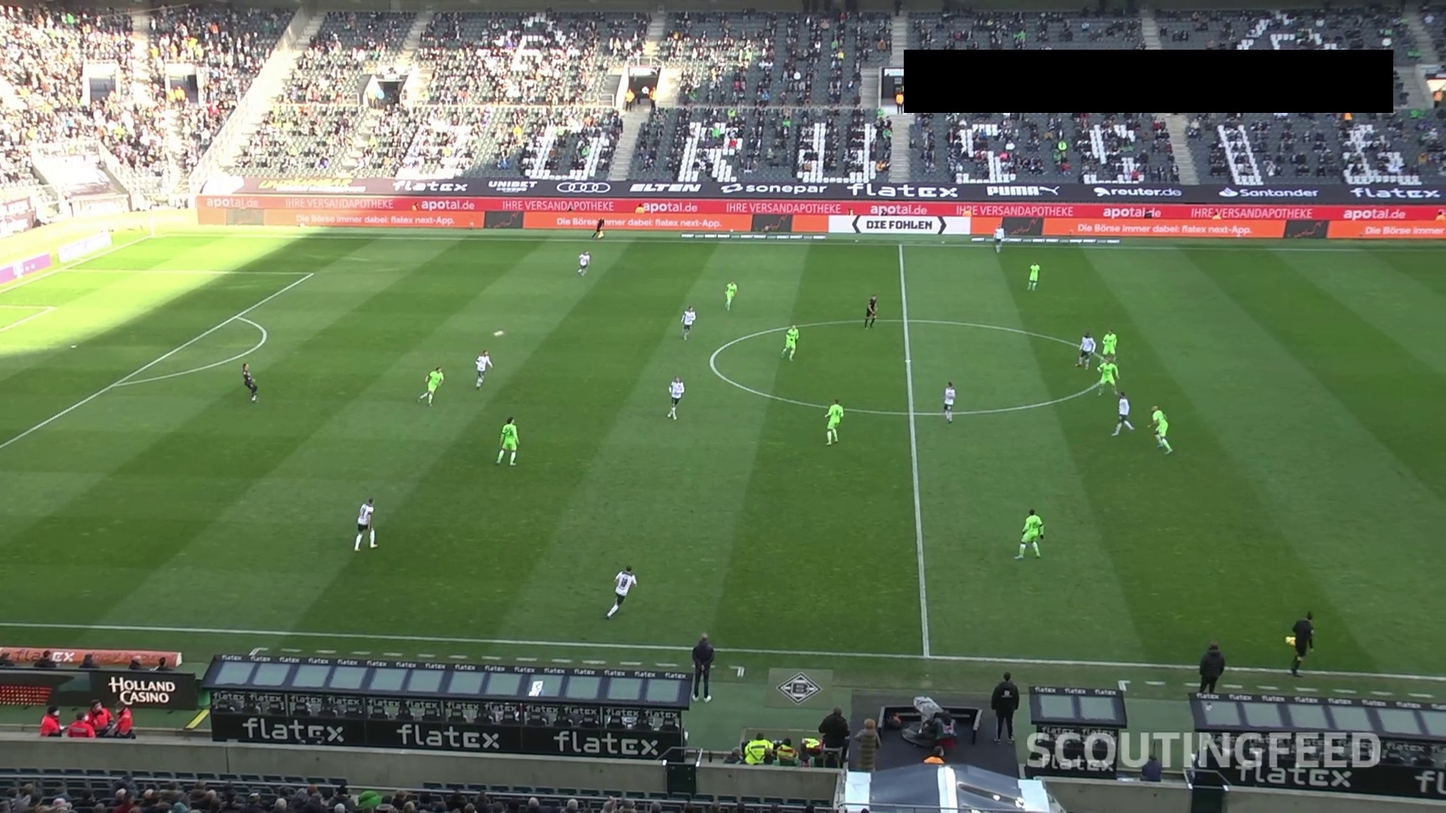ball: (709, 252, 737, 268)
goalkeeper: (123, 256, 166, 313)
player: (1142, 142, 1171, 183), (665, 467, 694, 508), (636, 386, 665, 427), (492, 264, 521, 305), (853, 305, 882, 346), (1070, 386, 1099, 427), (781, 224, 810, 264), (535, 549, 564, 589), (564, 671, 593, 711)
referee: (709, 589, 737, 630)
